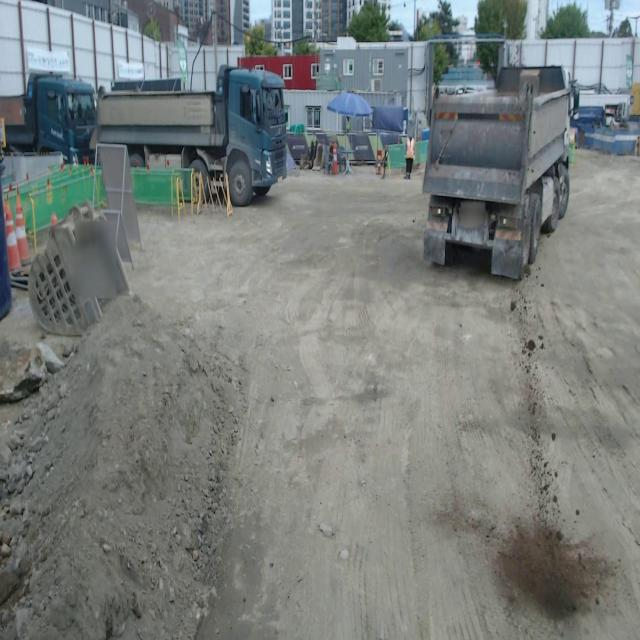white-sand: (0, 152, 640, 639), (0, 345, 47, 403)
